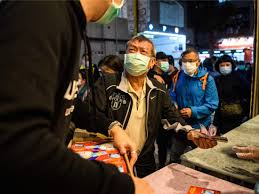masked: (121, 32, 157, 76), (179, 50, 202, 78), (154, 51, 170, 74), (216, 54, 234, 73)
